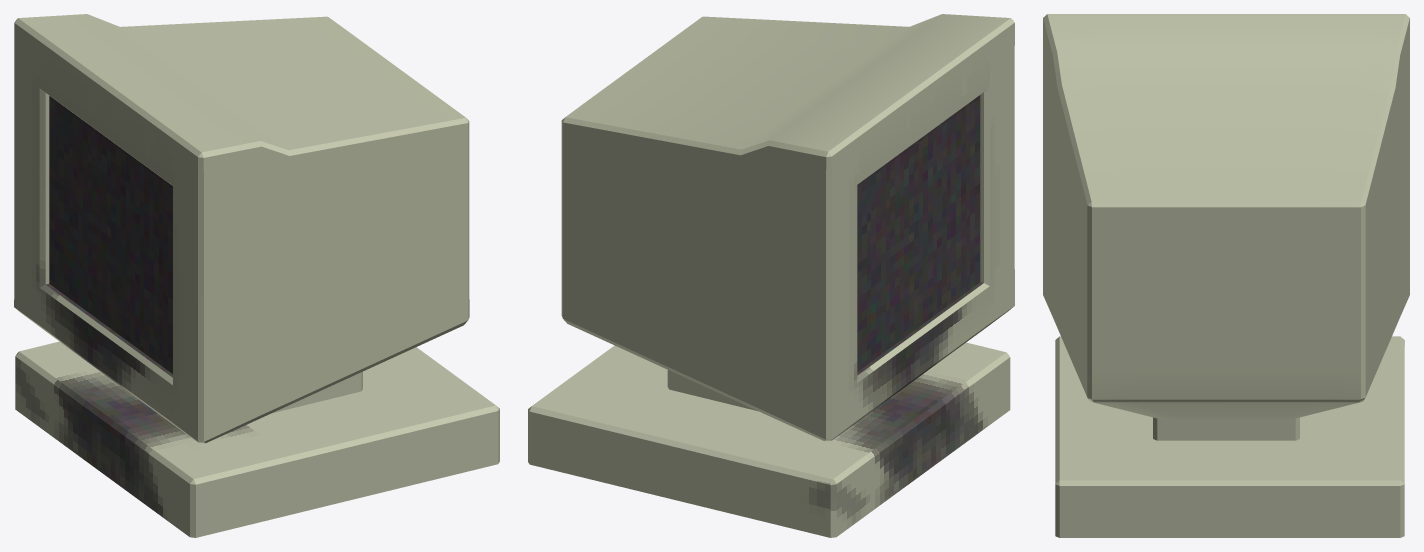
Rendered from Computer_Monitor.glb.
The picture shows the model from 3 angles, left to right: view 1: azimuth 30°, elevation 25°; view 2: azimuth 150°, elevation 25°; view 3: azimuth 270°, elevation 25°; orthographic projection. The views are drawn at different scales.
Parts seen in each view (by area): view 1: computer; view 2: computer; view 3: computer.
Part boxes in pixels (bbox=[...]): computer: bbox=[14, 14, 499, 537]; computer: bbox=[528, 14, 1014, 537]; computer: bbox=[1043, 14, 1409, 537].
Bounding box in the file's own units: 0.8455 × 1.01 × 0.8876.
1 material, 1 textured.
